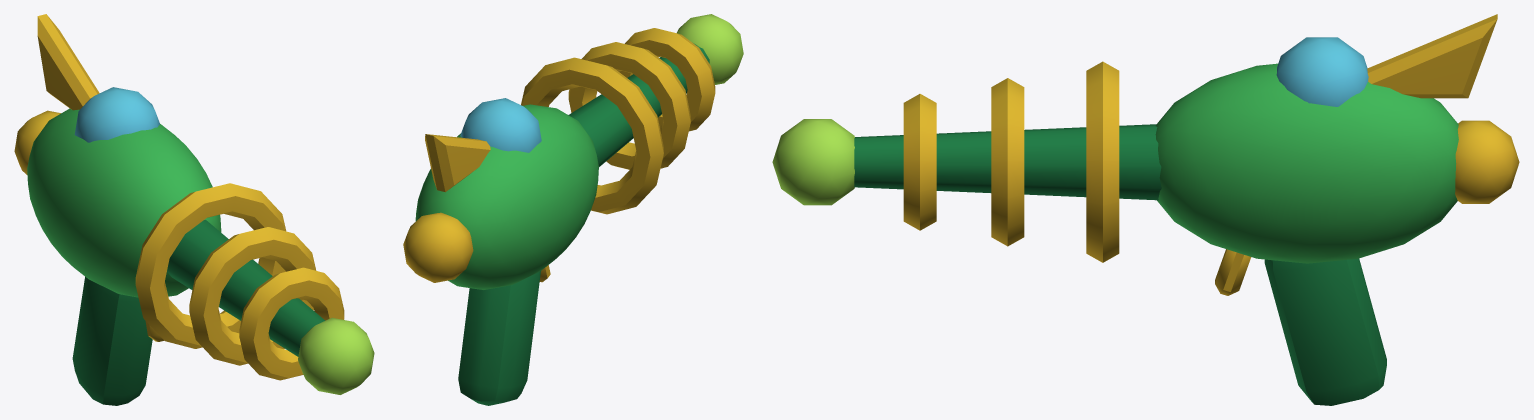
File: w_a_shrink.glb
The picture shows the model from 3 angles, left to right: view 1: azimuth 30°, elevation 25°; view 2: azimuth 150°, elevation 25°; view 3: azimuth 270°, elevation 25°; orthographic projection. The views are drawn at different scales.
Visible parts, largest first — view 1: body; view 2: body; view 3: body.
Part boxes in pixels (x1,y1,x2,y2): body: (14, 14, 374, 405); body: (403, 14, 743, 405); body: (772, 14, 1519, 405).
Bounding box in the file's own units: 0.2256 × 0.4651 × 0.8176.
